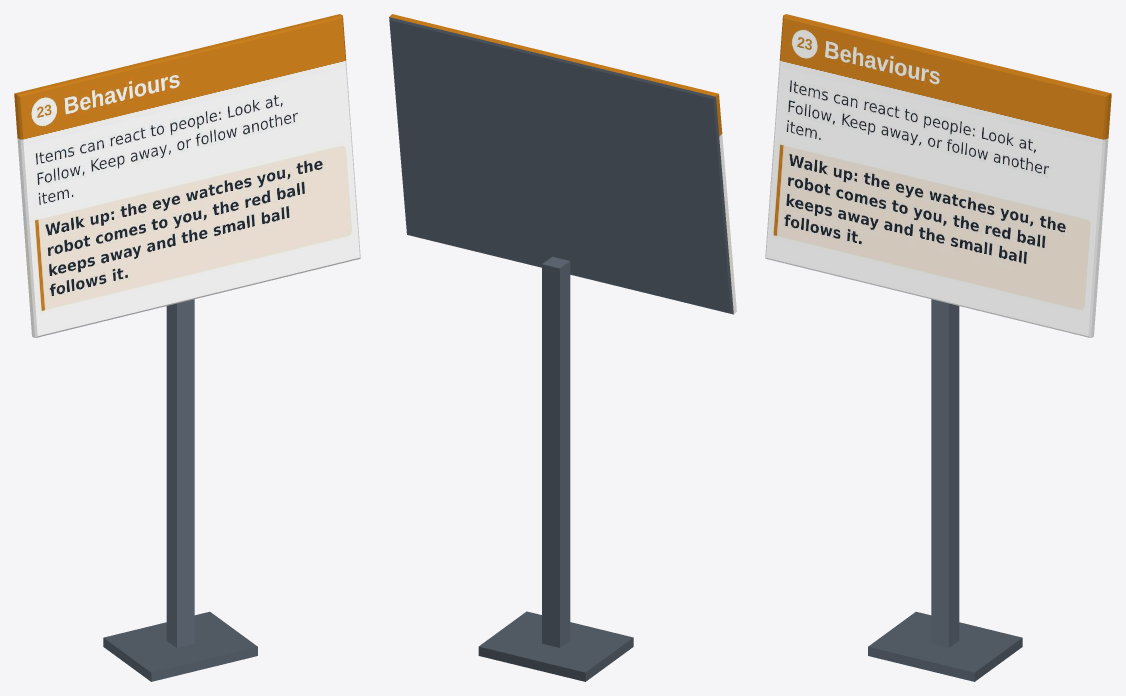
File: 23-behaviours.glb
3 renders of one model, left to right at view 1: azimuth 30°, elevation 25°; view 2: azimuth 150°, elevation 25°; view 3: azimuth 330°, elevation 25°, orthographic.
Parts seen in each view (by area): view 1: board; view 2: board; view 3: board.
Part boxes in pixels (bbox=[...]): board: bbox=[14, 14, 360, 681]; board: bbox=[389, 14, 736, 681]; board: bbox=[765, 14, 1111, 681].
Bounding box in the file's own units: 1.1 × 1.92 × 0.28.
1 material, 1 textured.
